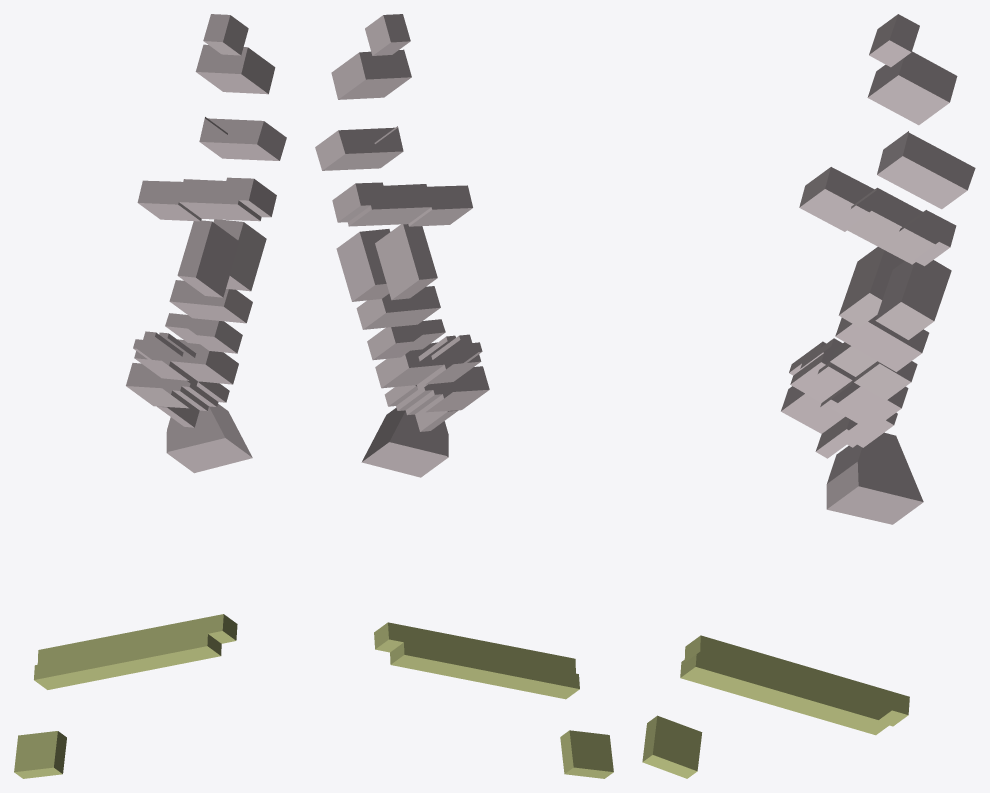
The picture shows the model from 3 angles, left to right: view 1: azimuth 30°, elevation 25°; view 2: azimuth 150°, elevation 25°; view 3: azimuth 330°, elevation 25°; orthographic projection. The views are drawn at different scales.
Parts seen in each view (by area): view 1: 0_3_0_1_1_1; view 2: 0_3_0_1_1_1; view 3: 0_3_0_1_1_1.
Boxes of the visible parts, x1,y1,x2,y2 form: 0_3_0_1_1_1: (14, 14, 286, 778); 0_3_0_1_1_1: (315, 14, 613, 778); 0_3_0_1_1_1: (642, 14, 975, 778).
Size of the model in its own units: 101 by 254 by 20.4.
